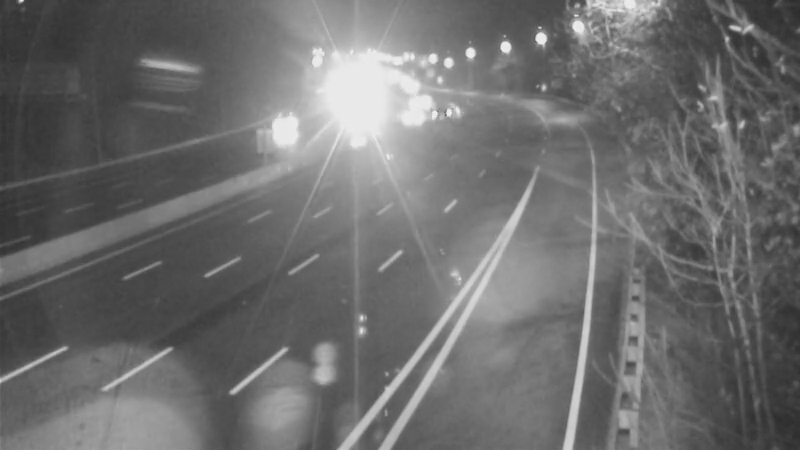vehicle: (394, 77, 444, 127), (422, 83, 472, 133), (381, 92, 431, 142), (266, 100, 316, 150)
